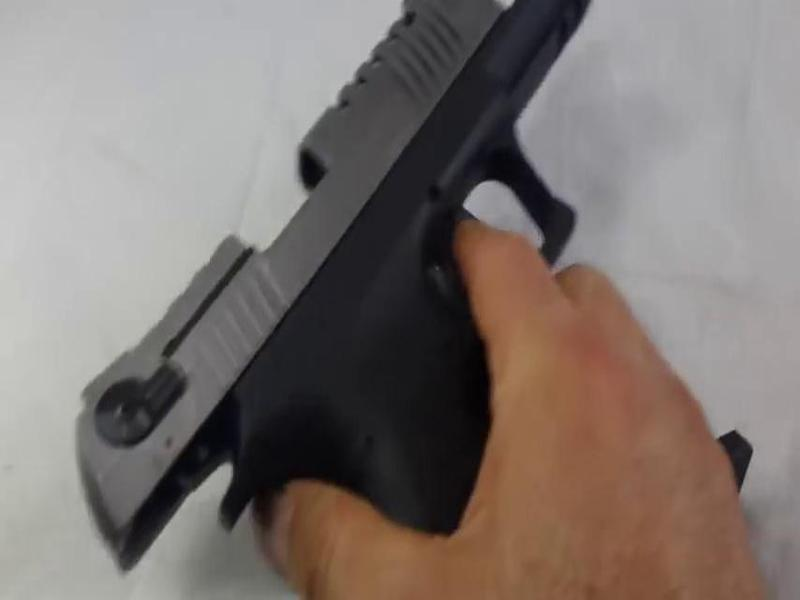Pistola: (51, 1, 659, 588)
